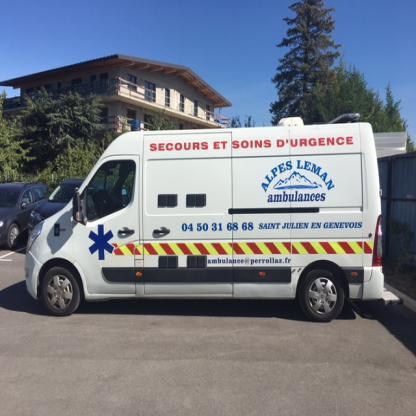Ambulance - v1 Ambulance last generate: (15, 111, 394, 331)
